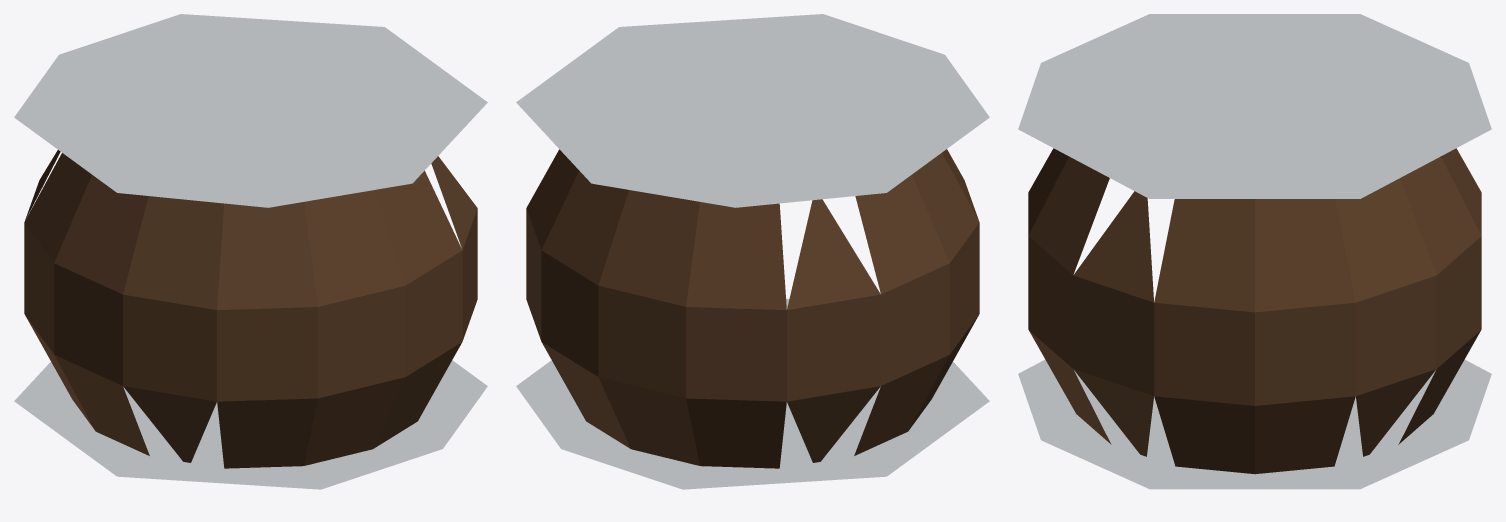
Rendered from drum.lod.glb.
3 views of the same model, side by side, from view 1: azimuth 30°, elevation 25°; view 2: azimuth 150°, elevation 25°; view 3: azimuth 270°, elevation 25° (orthographic). The views are drawn at different scales.
Visible parts, largest first — view 1: m; view 2: m; view 3: m.
Part boxes in pixels (bbox=[...]): m: bbox=[14, 14, 487, 489]; m: bbox=[516, 14, 989, 489]; m: bbox=[1018, 14, 1491, 489].
Bounding box in the file's own units: 0.1763 × 0.1293 × 0.1797.
